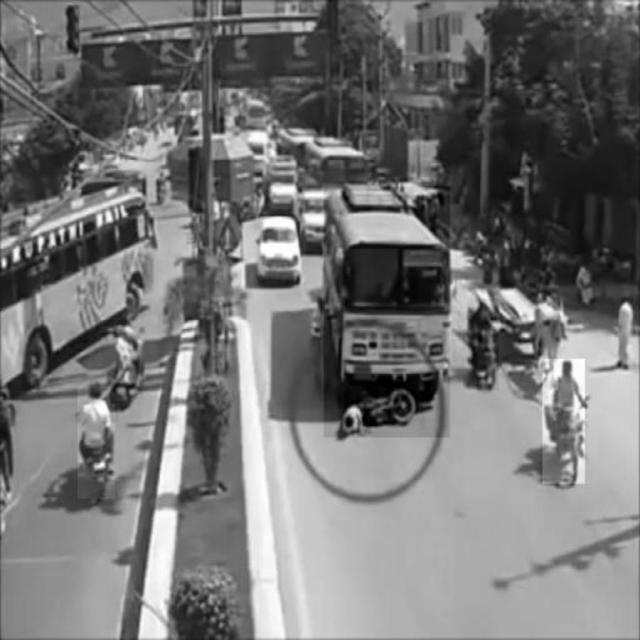accident: (324, 187, 450, 438)
vehicle: (1, 179, 158, 384), (543, 359, 585, 483), (77, 386, 115, 498), (468, 299, 498, 390), (110, 324, 144, 404), (260, 217, 298, 279)
